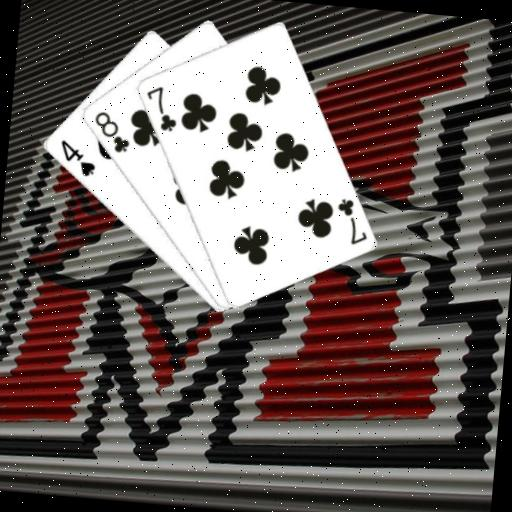4S: (55, 136, 99, 179)
7C: (140, 81, 181, 134), (331, 194, 372, 247)
8C: (88, 107, 134, 156)
